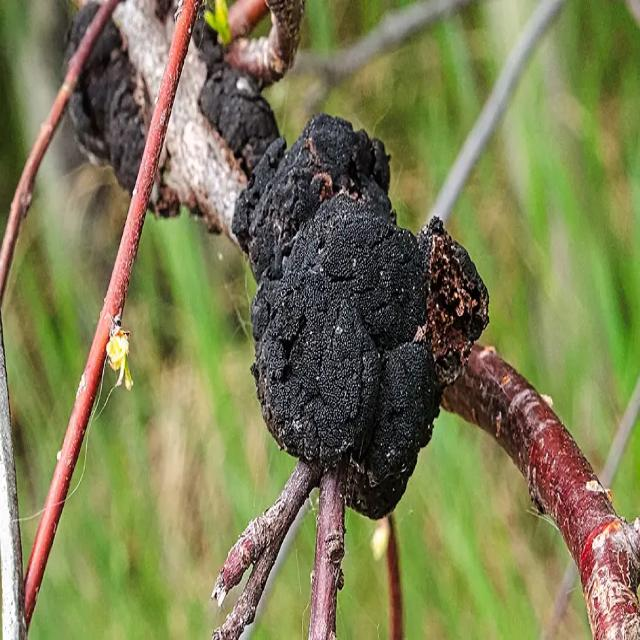Black_knot: (231, 111, 490, 520)
